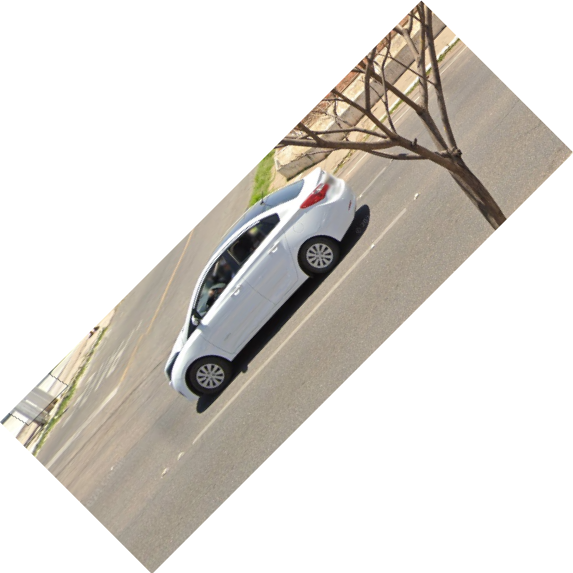car: (162, 164, 373, 410)
